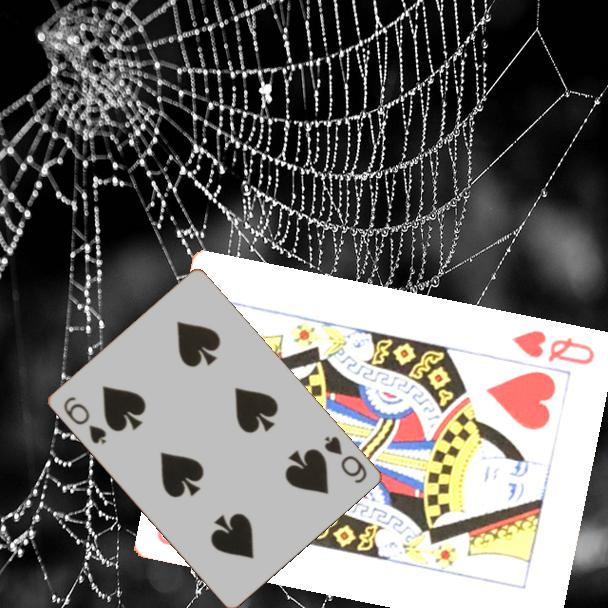h12: (507, 327, 597, 368)
s06: (59, 393, 109, 448), (320, 432, 370, 486)
